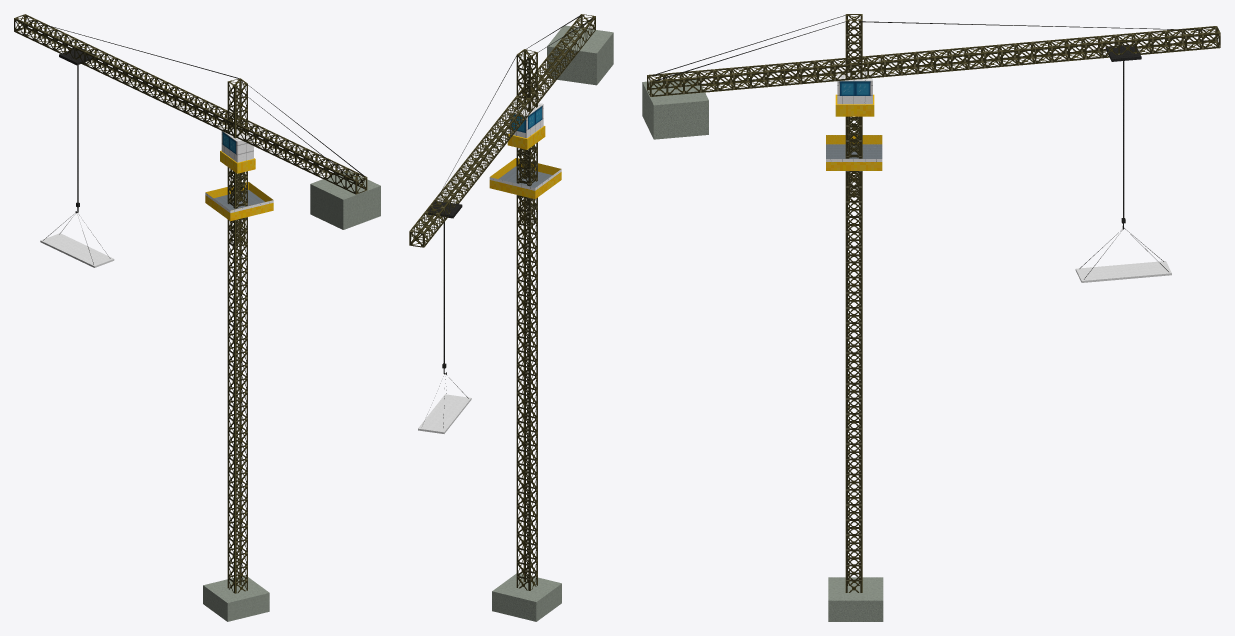
File: BGN_CRANE CONTRUCTION.fbx
3 renders of one model, left to right at view 1: azimuth 30°, elevation 25°; view 2: azimuth 150°, elevation 25°; view 3: azimuth 270°, elevation 25°, orthographic. The views are drawn at different scales.
Visible parts, largest first — view 1: BGN_CRANE_CONTRUCTION, ROTATE; view 2: BGN_CRANE_CONTRUCTION, ROTATE; view 3: ROTATE, BGN_CRANE_CONTRUCTION.
Part boxes in pixels (x1=…): BGN_CRANE_CONTRUCTION: x1=203, y1=78, x2=273, y2=621; ROTATE: x1=14, y1=14, x2=380, y2=267; BGN_CRANE_CONTRUCTION: x1=489, y1=49, x2=561, y2=621; ROTATE: x1=409, y1=14, x2=613, y2=433; ROTATE: x1=642, y1=15, x2=1220, y2=282; BGN_CRANE_CONTRUCTION: x1=826, y1=14, x2=883, y2=621.
Bounding box in the file's own units: 1343 × 5760 × 5088.
